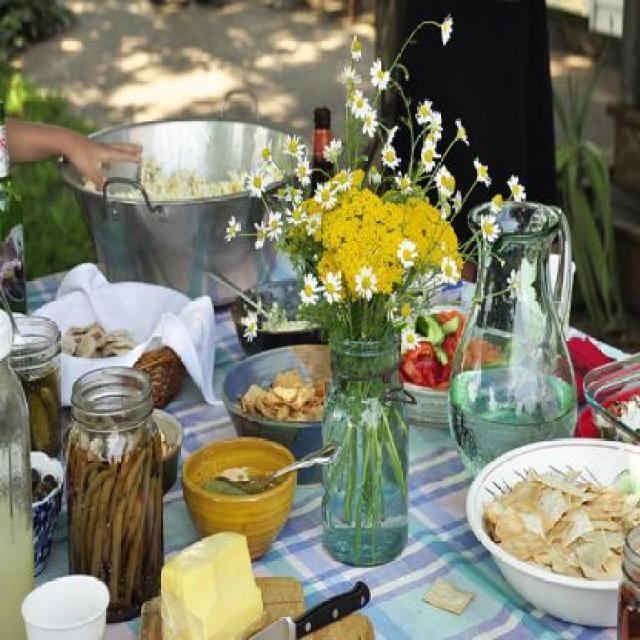Cheese: (157, 526, 266, 639)
